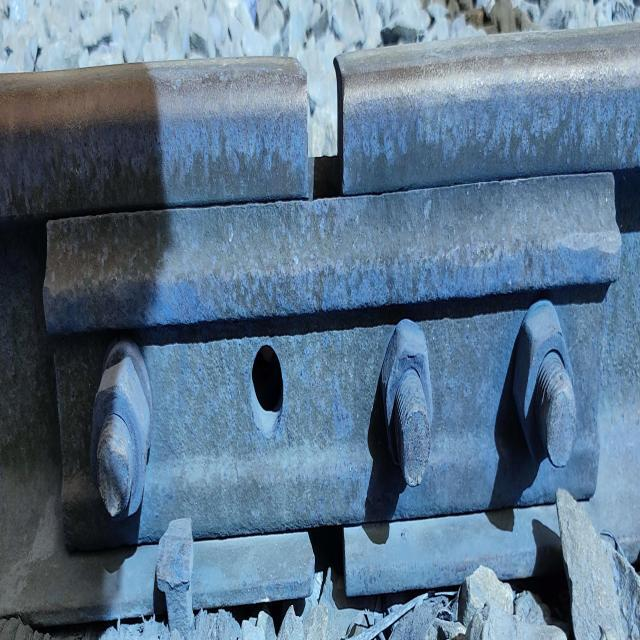Defective Joint: (49, 168, 619, 547)
